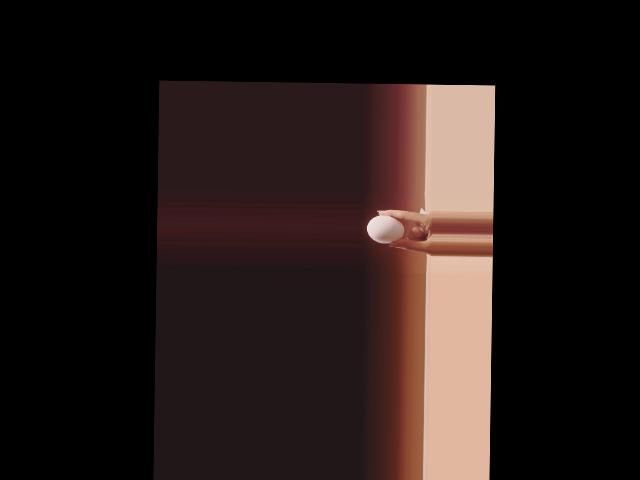egg: (366, 215, 405, 244)
